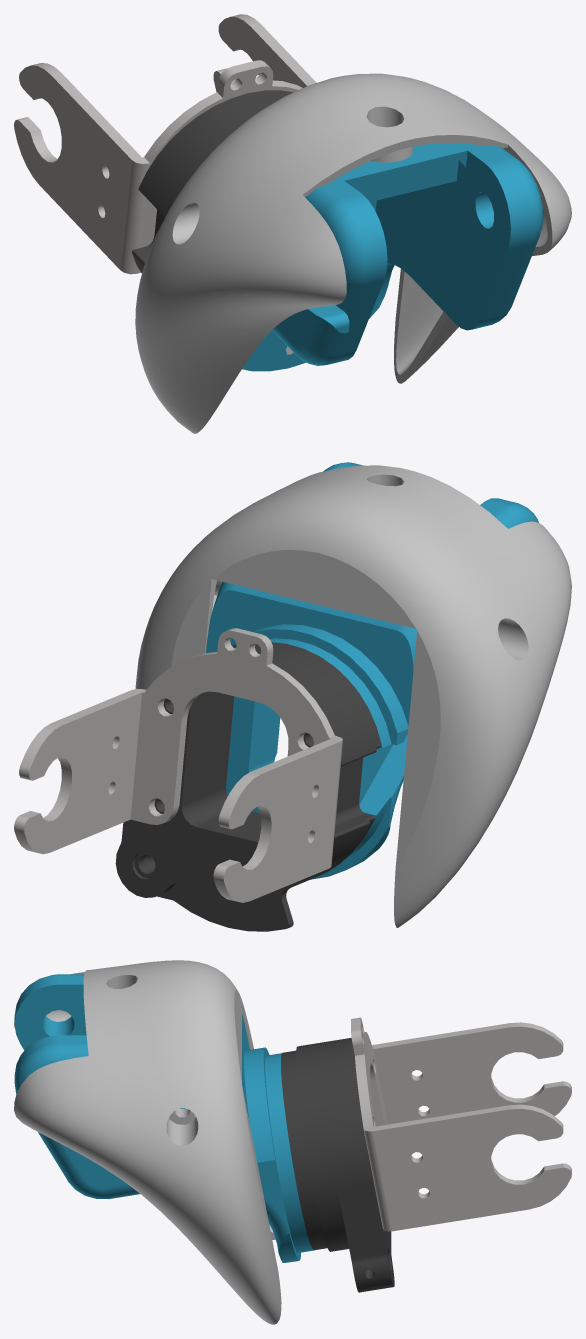
File: r_shoulder_link.dae
The picture shows the model from 3 angles, top to bottom: view 1: azimuth 30°, elevation 25°; view 2: azimuth 150°, elevation 25°; view 3: azimuth 270°, elevation 25°; orthographic projection. The views are drawn at different scales.
Parts seen in each view (by area): view 1: FBXASC227FBXASC130FBXASC189FBXASC227FBXASC131FBXASC170FBXASC (×4); view 2: FBXASC227FBXASC130FBXASC189FBXASC227FBXASC131FBXASC170FBXASC (×4); view 3: FBXASC227FBXASC130FBXASC189FBXASC227FBXASC131FBXASC170FBXASC (×4).
Part boxes in pixels (x1=…): FBXASC227FBXASC130FBXASC189FBXASC227FBXASC131FBXASC170FBXASC (×4): x1=14, y1=14, x2=571, y2=433; FBXASC227FBXASC130FBXASC189FBXASC227FBXASC131FBXASC170FBXASC (×4): x1=14, y1=462, x2=571, y2=931; FBXASC227FBXASC130FBXASC189FBXASC227FBXASC131FBXASC170FBXASC (×4): x1=14, y1=960, x2=571, y2=1324.
Size of the model in its own units: 0.0917 by 0.1393 by 0.0846.
